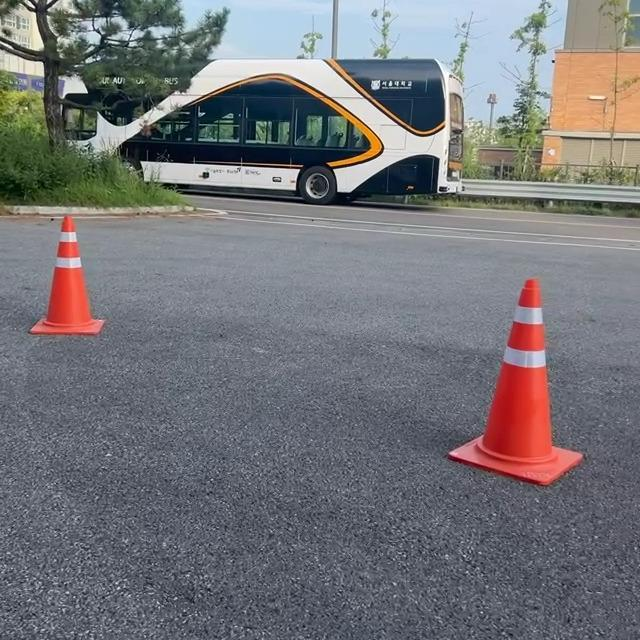fallen_object: (413, 279, 570, 485), (26, 195, 120, 372)
